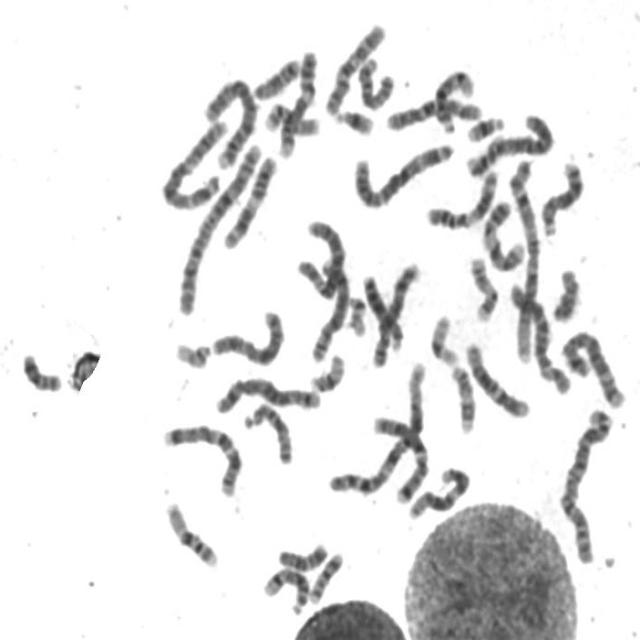A1: (324, 352, 430, 498), (502, 152, 542, 367)
A2: (172, 136, 266, 318), (554, 401, 616, 567)
A3: (347, 134, 457, 210), (156, 110, 230, 212)
B4: (461, 106, 556, 178), (198, 72, 259, 170)
B5: (556, 322, 627, 411), (210, 372, 324, 416)
C10: (320, 15, 387, 117), (379, 90, 484, 134)
C11: (218, 148, 279, 251), (421, 161, 502, 231)
C12: (460, 334, 532, 419), (404, 459, 473, 521)
C6: (504, 276, 574, 396), (292, 212, 348, 300)
C7: (157, 416, 243, 498), (368, 408, 432, 504)
C8: (367, 255, 423, 370), (305, 251, 351, 365)
C9: (273, 43, 320, 160), (476, 192, 528, 273)
D13: (535, 154, 586, 238), (358, 266, 407, 352)
D14: (429, 62, 478, 133), (258, 561, 311, 617)
D15: (239, 396, 295, 467), (352, 50, 396, 111)
E16: (160, 494, 220, 570), (259, 94, 321, 138)
E17: (464, 249, 501, 324), (445, 357, 477, 435)
E18: (248, 51, 303, 101), (273, 535, 329, 573)
F19: (425, 307, 461, 368), (304, 346, 348, 394)
F20: (304, 545, 346, 605), (16, 345, 64, 393)
G21: (329, 101, 376, 138), (461, 108, 507, 144)
G22: (170, 334, 212, 370), (343, 289, 368, 338)
X: (206, 302, 287, 367)
